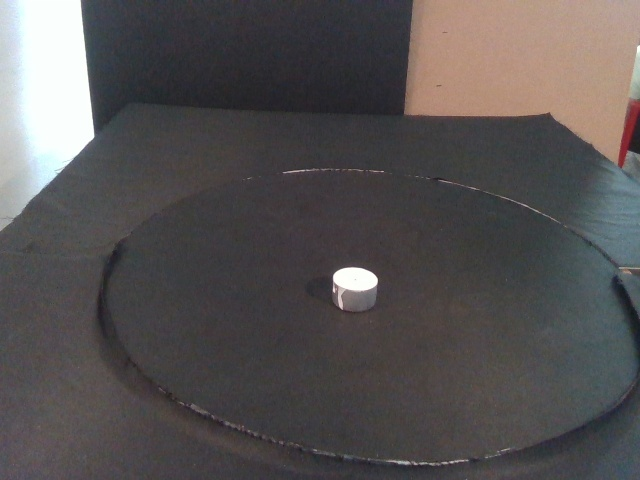candle: (330, 266, 379, 313)
